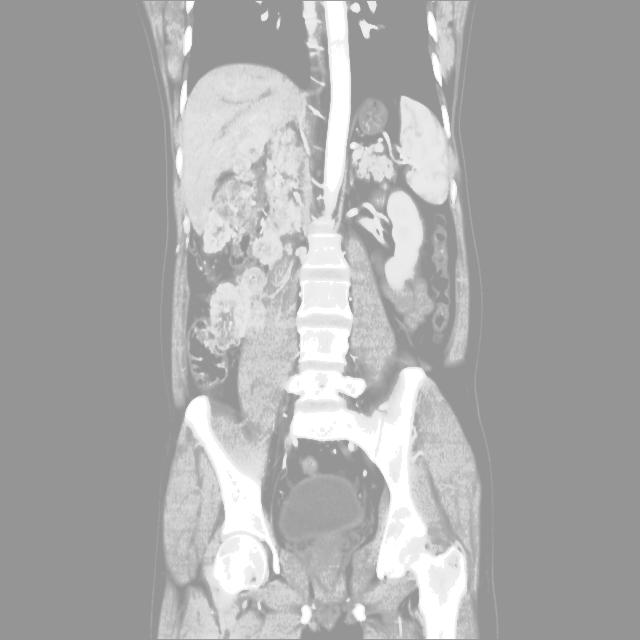TUMOR: (61, 241, 535, 491)
